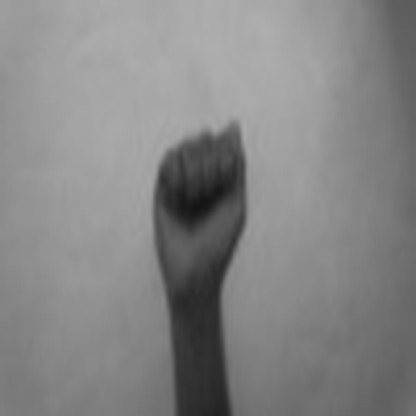a: (145, 109, 254, 292)
